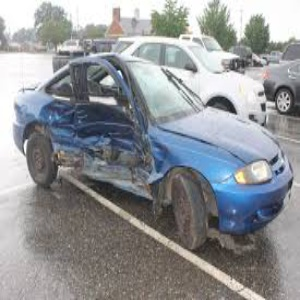door: (48, 103, 148, 188)
